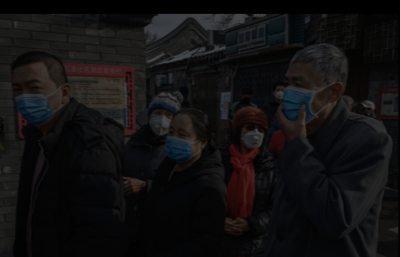with_mask: (284, 71, 329, 125), (12, 74, 59, 123), (164, 123, 197, 162), (239, 122, 264, 148), (149, 109, 174, 134), (275, 88, 286, 100), (242, 95, 252, 104)
